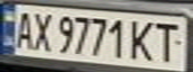1: (106, 16, 130, 60)
7: (87, 15, 109, 57), (69, 13, 90, 55)
9: (54, 11, 75, 54)
A: (9, 8, 36, 51)
K: (127, 17, 160, 62)
T: (151, 19, 187, 64)
X: (30, 8, 54, 52)
